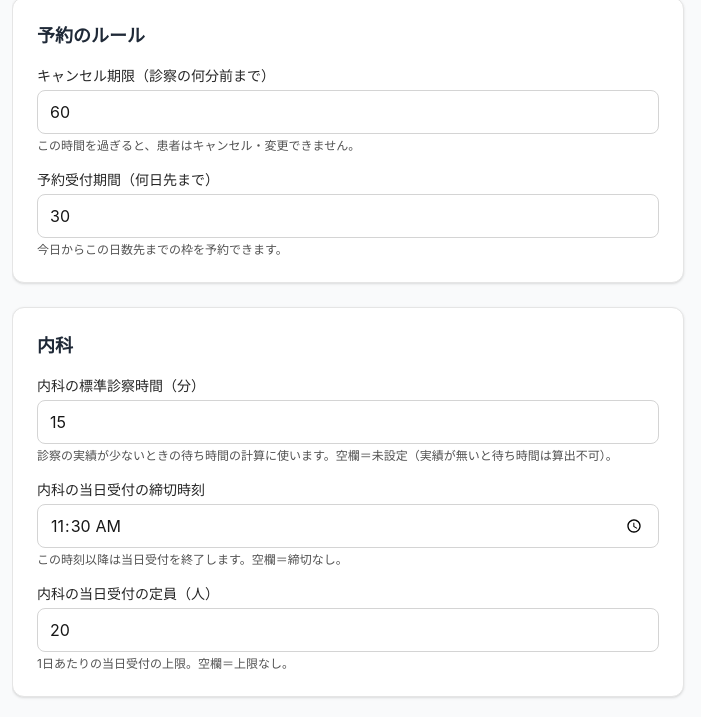
Test: SettingsForm（REQ-006-AC-2 受付期間・キャンセル期限・標準診察時間） › 予約受付期間 に 0 は範囲外
The image size is (701, 717).
Replace the text in the number field labelled "予約受付期間（何日先まで）" with "0". click: x=348, y=216
box: [37,194,659,238]
(page scrolled)
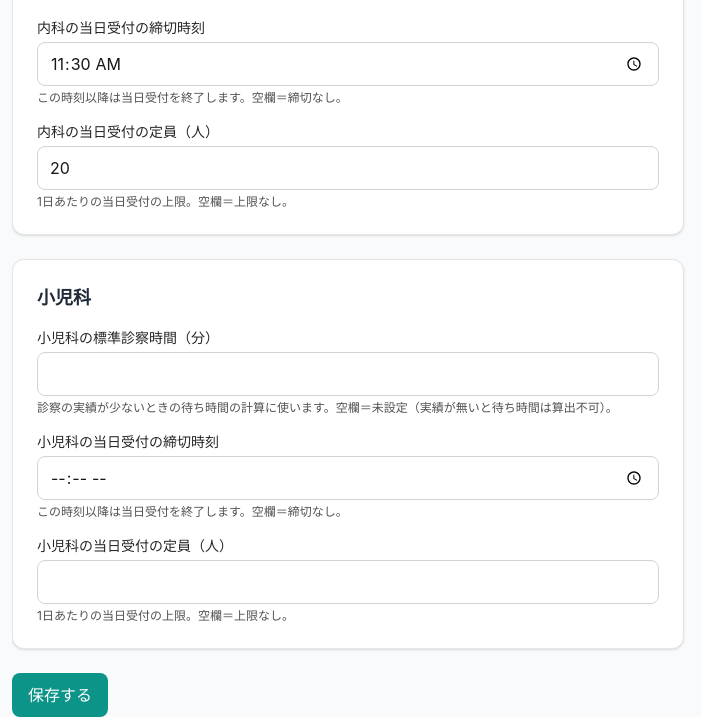
Click the button "保存する". click: x=60, y=695
box: [12,673,108,716]
(page scrolled)
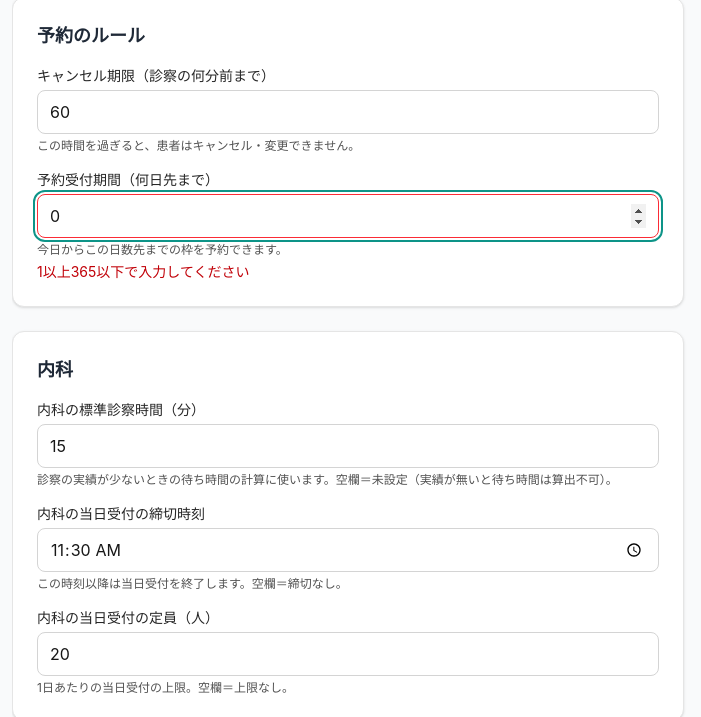
Now the text "1以上365以下で入力してください" is shown, box [37,263,250,280]
